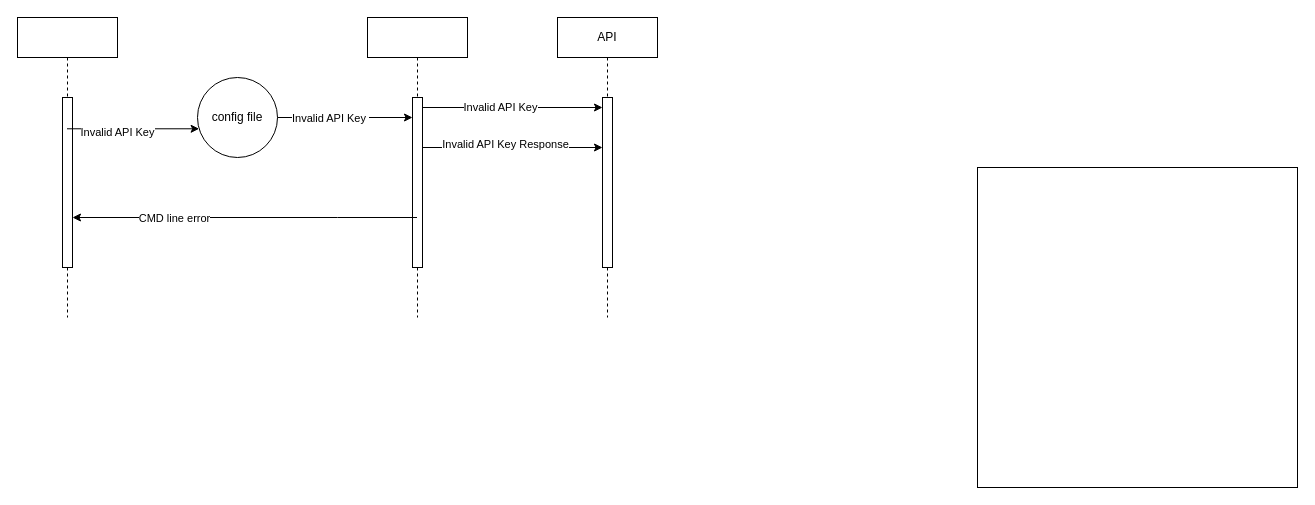
Some shapes in this 1315 by 505 pixel diagram are drawn without their labels. Here are the shapes that lost their labels. From the top down, the box of each, then its label:
(16, 16, 118, 318): User
(366, 16, 468, 318): CORE
